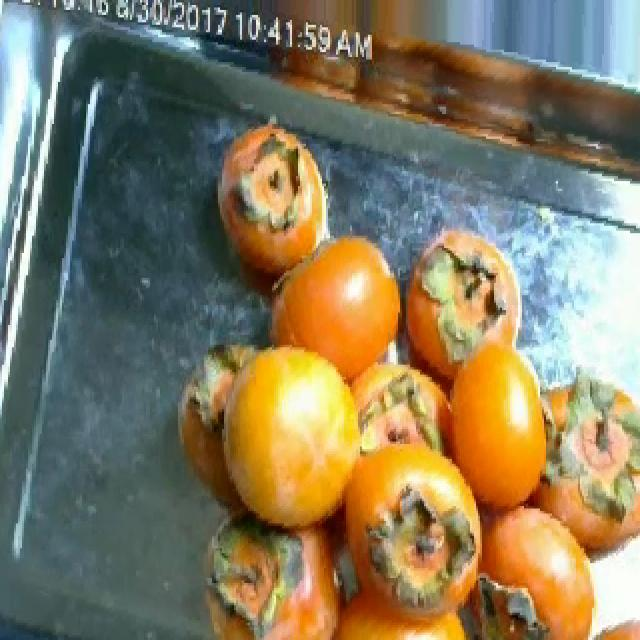Fruit: (252, 213, 410, 414), (204, 112, 338, 266)
